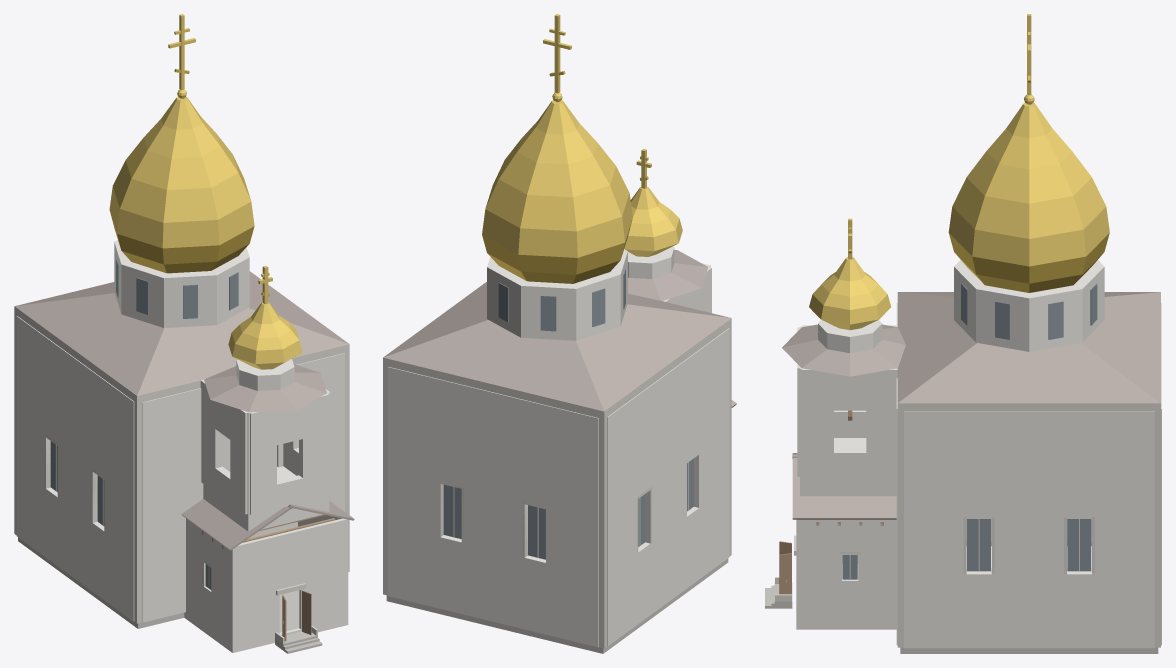
Rendered from church_v1.glb.
The picture shows the model from 3 angles, left to right: view 1: azimuth 30°, elevation 25°; view 2: azimuth 150°, elevation 25°; view 3: azimuth 270°, elevation 25°; orthographic projection. The views are drawn at different scales.
Visible parts, largest first — view 1: RoofTransition, Onion.Top, W-WallW.Pier0, S-Wall.Pier1, S-Wall.Pier0, S-Wall.PierEnd, Drum, PF-Porch.Front.Pier0, PF-Porch.Front.PierEnd, Tier.Cap, Tier.Onion, Onion.Low (+25 smaller); view 2: RoofTransition, Onion.Top, E-WallE.Pier1, E-WallE.Pier0, E-WallE.PierEnd, S-Wall.Pier1, S-Wall.Pier0, S-Wall.PierEnd, Drum, Onion.Low, Cornice, Tier.Onion (+20 smaller); view 3: RoofTransition, N-Wall.Pier1, Onion.Top, N-Wall.PierEnd, N-Wall.Pier0, Drum, PE-Porch.Side.Pier0, PE-Porch.Side.PierEnd, Tier.Onion, Tier.Cap, Onion.Low, Tier3-Tier.Pier0 (+20 smaller).
Part boxes in pixels (x1,y1,x2,y2): RoofTransition: (14,271,349,395); Onion.Top: (109,97,254,248); W-WallW.Pier0: (142,388,203,622); S-Wall.Pier1: (57,346,97,591); S-Wall.Pier0: (104,380,134,621); S-Wall.PierEnd: (16,316,50,557); Drum: (114,240,249,327); PF-Porch.Front.Pier0: (230,534,279,652); PF-Porch.Front.PierEnd: (299,518,348,632); Tier.Cap: (204,364,326,412); Tier.Onion: (228,302,302,369); Onion.Low: (110,214,254,273); RoofTransition: (383,282,731,411); Onion.Top: (482,100,632,257); E-WallE.Pier1: (461,385,527,629); E-WallE.Pier0: (546,405,598,647); E-WallE.PierEnd: (388,367,440,608); S-Wall.Pier1: (646,359,686,614); S-Wall.Pier0: (694,328,729,579); S-Wall.PierEnd: (607,395,638,646); Drum: (487,249,627,340); Onion.Low: (482,220,632,283); Cornice: (383,318,731,419); Tier.Onion: (624,186,682,256); RoofTransition: (897,292,1160,403); N-Wall.Pier1: (991,411,1066,648); Onion.Top: (948,102,1109,266); N-Wall.PierEnd: (1092,411,1154,648); N-Wall.Pier0: (904,411,966,648); Drum: (954,260,1104,351); PE-Porch.Side.Pier0: (801,519,841,629); PE-Porch.Side.PierEnd: (858,519,896,629); Tier.Onion: (809,257,890,330); Tier.Cap: (782,324,905,376); Onion.Low: (949,233,1109,292); Tier3-Tier.Pier0: (801,369,833,478).
Size of the model in its own units: 14.8 by 36 by 22.14.
